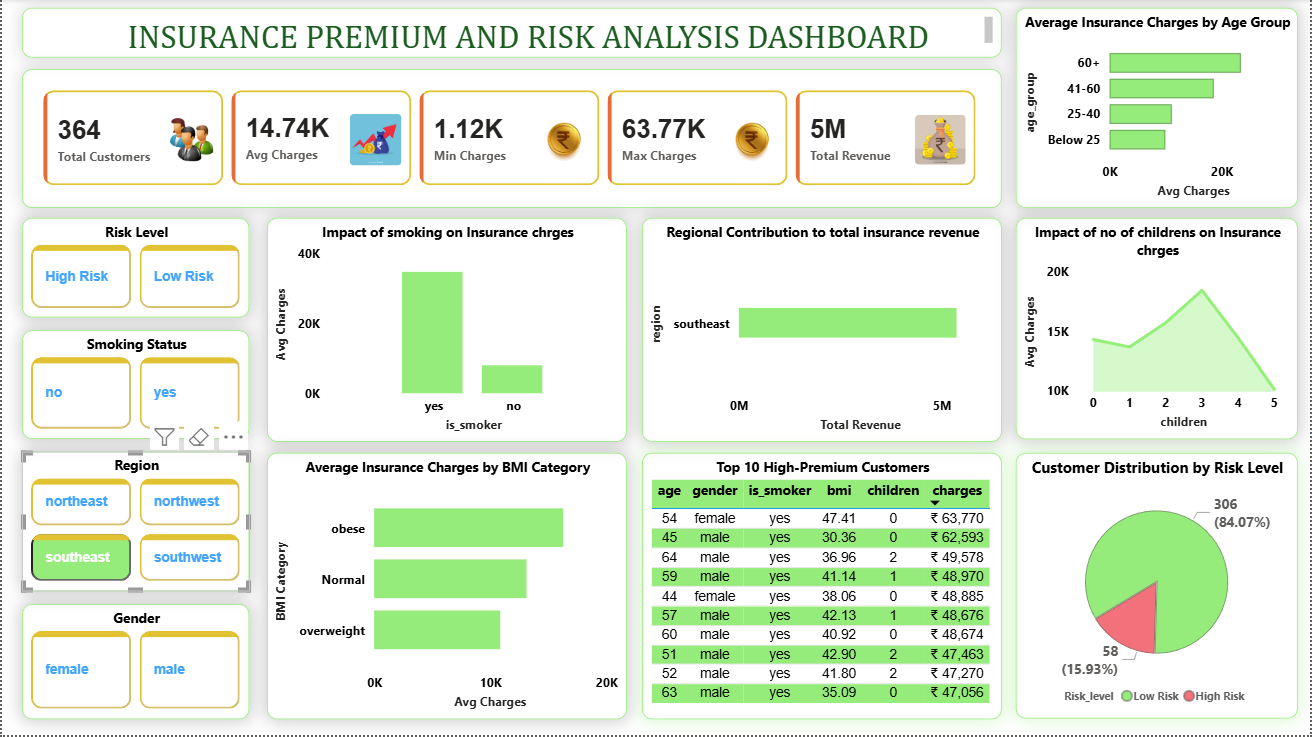

This screenshot's page, from the dashboard's own definition file:
{"tool":"powerbi","page":{"name":"Page 1","canvas":[1280,720],"ordinal":0},"visuals":[{"type":"cardVisual","fields":{"Data":["insurance_analysis_cleaned.Total Customers","insurance_analysis_cleaned.Avg Charges","insurance_analysis_cleaned.Min Charges","insurance_analysis_cleaned.Max Charges","insurance_analysis_cleaned.Total Revenue"]},"box":[19.6,68.5,958.7,135.7],"z":0},{"type":"advancedSlicerVisual","title":"Region","fields":{"Values":["insurance_analysis_cleaned.region"]},"box":[19.6,442.7,222.6,137],"z":1000},{"type":"advancedSlicerVisual","title":"Smoking Status","fields":{"Values":["insurance_analysis_cleaned.is_smoker"]},"box":[19.6,324.1,222.6,106.4],"z":2000},{"type":"advancedSlicerVisual","title":"Risk Level","fields":{"Values":["insurance_analysis_cleaned.risk_level"]},"box":[19.6,214,222.6,97.8],"z":3000},{"type":"advancedSlicerVisual","title":"Gender","fields":{"Values":["insurance_analysis_cleaned.gender"]},"box":[19.6,591.9,222.6,112.5],"z":4000},{"type":"columnChart","title":"Impact of smoking on Insurance chrges","fields":{"Category":["insurance_analysis_cleaned.is_smoker"],"Y":["insurance_analysis_cleaned.Avg Charges"]},"box":[259.2,214,352.2,218.9],"z":5000},{"type":"barChart","title":"Regional Contribution to total insurance revenue","fields":{"Category":["insurance_analysis_cleaned.region"],"Y":["insurance_analysis_cleaned.Total Revenue"]},"box":[626.1,214,352.2,218.9],"z":6000},{"type":"areaChart","title":"Impact of no of childrens on Insurance chrges","fields":{"Y":["insurance_analysis_cleaned.Avg Charges"],"Category":["insurance_analysis_cleaned.children"]},"box":[991.7,214,276.4,216.4],"z":7000},{"type":"tableEx","title":"Top 10 High-Premium Customers","fields":{"Values":["insurance_analysis_cleaned.age","insurance_analysis_cleaned.gender","insurance_analysis_cleaned.is_smoker","insurance_analysis_cleaned.bmi","insurance_analysis_cleaned.children","insurance_analysis_cleaned.charges"]},"box":[626.1,443.9,352.2,260.5],"z":8000},{"type":"barChart","title":"Average Insurance Charges by BMI Category","fields":{"Y":["insurance_analysis_cleaned.Avg Charges"],"Category":["insurance_analysis_cleaned.bmi_category"]},"box":[259.2,443.9,352.2,260.5],"z":9000},{"type":"pieChart","title":"Customer Distribution by Risk Level","fields":{"Category":["insurance_analysis_cleaned.risk_level"],"Y":["CountNonNull(insurance_analysis_cleaned.customerid)"]},"box":[992,444,276,260],"z":10000},{"type":"barChart","title":"Average Insurance Charges by Age Group","fields":{"Y":["insurance_analysis_cleaned.Avg Charges"],"Category":["insurance_analysis_cleaned.age_group"]},"box":[991.7,8.6,276.4,195.7],"z":11000},{"type":"textbox","box":[19.6,8.6,958.7,48.9],"z":12000}]}

Visuals, with their boxes in screenshot pixels (x1, y1, x2, y2), scaled from the page's 1280x720 canvas onto the 1312x737 screenshot:
cardVisual - insurance_analysis_cleaned.Total Customers x insurance_analysis_cleaned.Avg Charges: [x1=20, y1=70, x2=1003, y2=209]
"Region" advancedSlicerVisual: [x1=20, y1=453, x2=248, y2=593]
"Smoking Status" advancedSlicerVisual: [x1=20, y1=332, x2=248, y2=441]
"Risk Level" advancedSlicerVisual: [x1=20, y1=219, x2=248, y2=319]
"Gender" advancedSlicerVisual: [x1=20, y1=606, x2=248, y2=721]
"Impact of smoking on Insurance chrges" columnChart: [x1=266, y1=219, x2=627, y2=443]
"Regional Contribution to total insurance revenue" barChart: [x1=642, y1=219, x2=1003, y2=443]
"Impact of no of childrens on Insurance chrges" areaChart: [x1=1016, y1=219, x2=1300, y2=441]
"Top 10 High-Premium Customers" tableEx: [x1=642, y1=454, x2=1003, y2=721]
"Average Insurance Charges by BMI Category" barChart: [x1=266, y1=454, x2=627, y2=721]
"Customer Distribution by Risk Level" pieChart: [x1=1017, y1=454, x2=1300, y2=721]
"Average Insurance Charges by Age Group" barChart: [x1=1016, y1=9, x2=1300, y2=209]
textbox: [x1=20, y1=9, x2=1003, y2=59]
